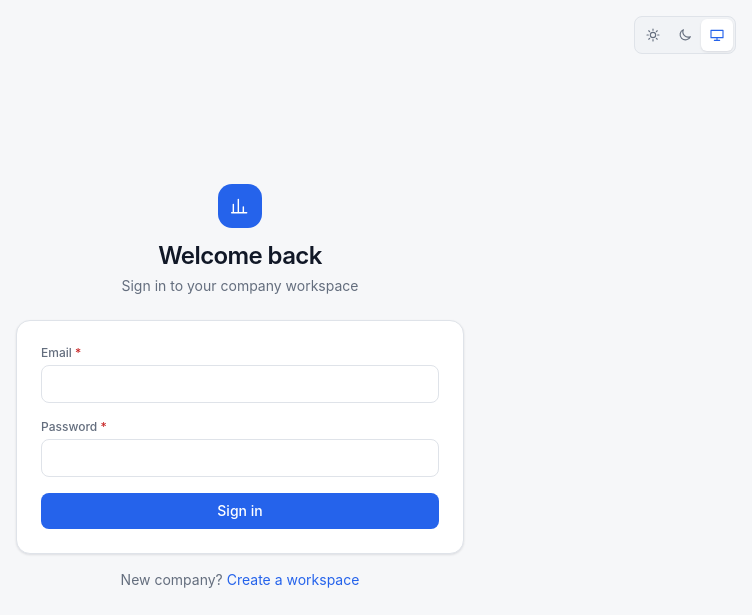
user journeys › login shows server validation errors next to the fields
This screenshot has width=752, height=615.
Step 1. Type "nope" into the field labelled "Email *" → (240, 384), box 41,365 -> 439,403
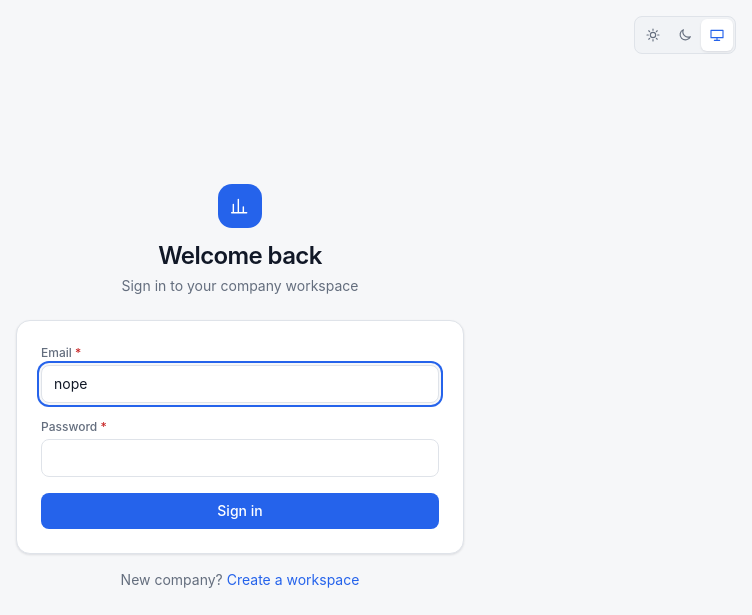
Step 2. Type "secret" into the password field labelled "Password *" → (240, 458), box 41,439 -> 439,477
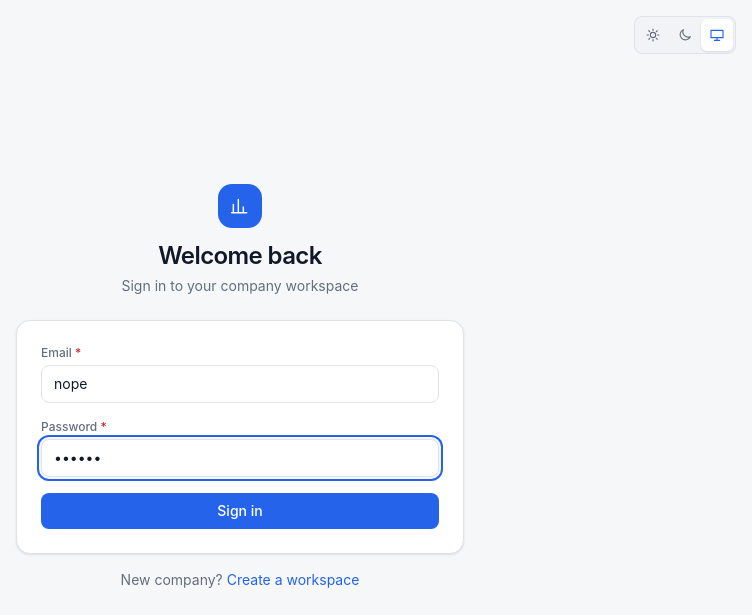
Step 3. Click the button "Sign in" → (240, 511), box 41,493 -> 439,529
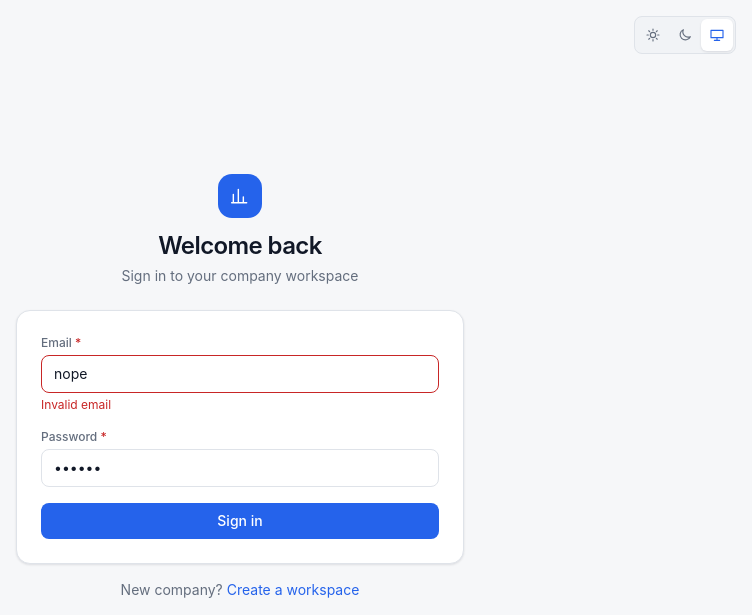
Expected: the text "Invalid email" is shown, 41,397 -> 111,412
